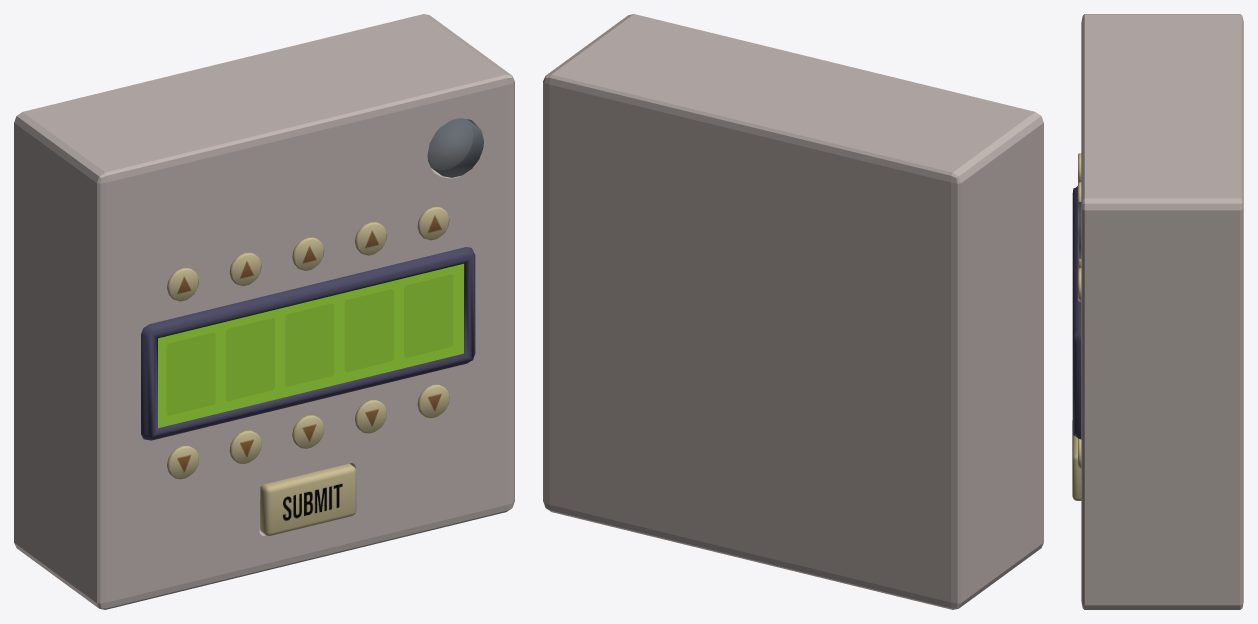
File: password.glb
3 renders of one model, left to right at view 1: azimuth 30°, elevation 25°; view 2: azimuth 150°, elevation 25°; view 3: azimuth 270°, elevation 25°, orthographic. The views are drawn at different scales.
Parts seen in each view (by area): view 1: PasswordModule, LCD.Frame.001, Backlight, SubmitButton, Plane1, Plane3, Plane4, Plane5, Plane2, Light.001, Button5.B, Button2.B (+8 smaller); view 2: PasswordModule; view 3: PasswordModule, LCD.Frame.001, SubmitButton.
Boxes of the visible parts, x1,y1,x2,y2 form: PasswordModule: [14, 14, 514, 609]; LCD.Frame.001: [141, 247, 475, 440]; Backlight: [158, 263, 463, 428]; SubmitButton: [260, 463, 356, 535]; Plane1: [166, 332, 215, 415]; Plane3: [285, 303, 334, 386]; Plane4: [344, 289, 393, 372]; Plane5: [404, 274, 453, 357]; Plane2: [225, 318, 274, 401]; Light.001: [427, 118, 483, 177]; Button5.B: [417, 384, 449, 418]; Button2.B: [229, 430, 261, 464]; PasswordModule: [543, 14, 1043, 609]; PasswordModule: [1081, 14, 1243, 609]; LCD.Frame.001: [1072, 186, 1081, 439]; SubmitButton: [1072, 420, 1081, 500].
Size of the model in its own units: 0.1761 by 0.1761 by 0.0665.
7 materials, 2 textured.
